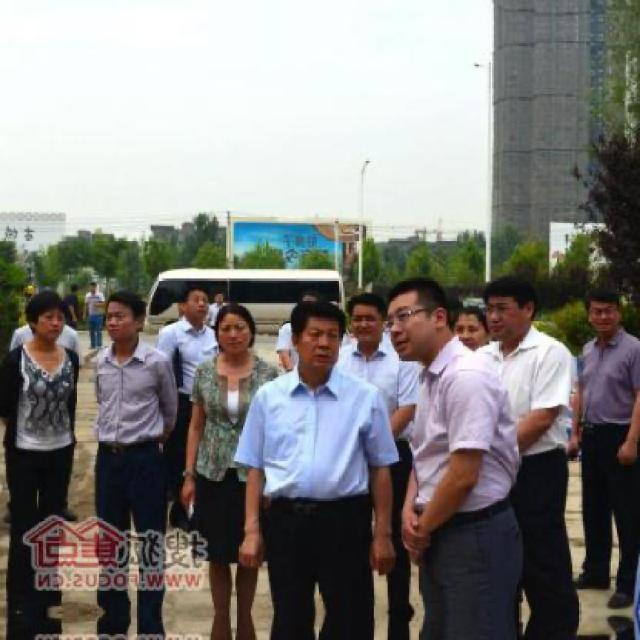sin casco: (389, 280, 468, 326), (290, 303, 338, 343), (30, 295, 72, 339), (584, 276, 620, 324), (112, 287, 147, 336), (221, 297, 259, 333)
